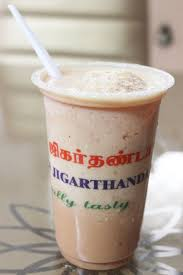jigirthanda: (40, 64, 149, 257)
